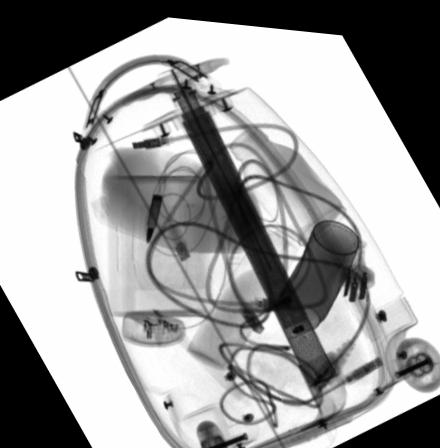Bullet: (145, 189, 162, 243)
